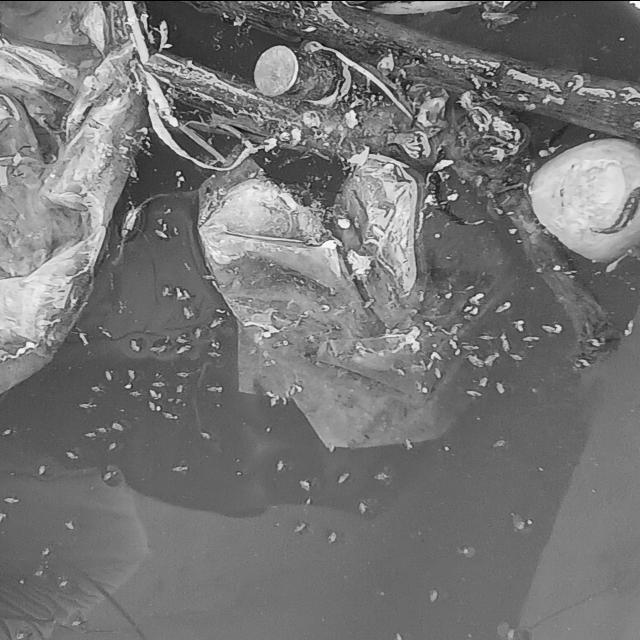Breeding Place: (0, 170, 640, 640)
